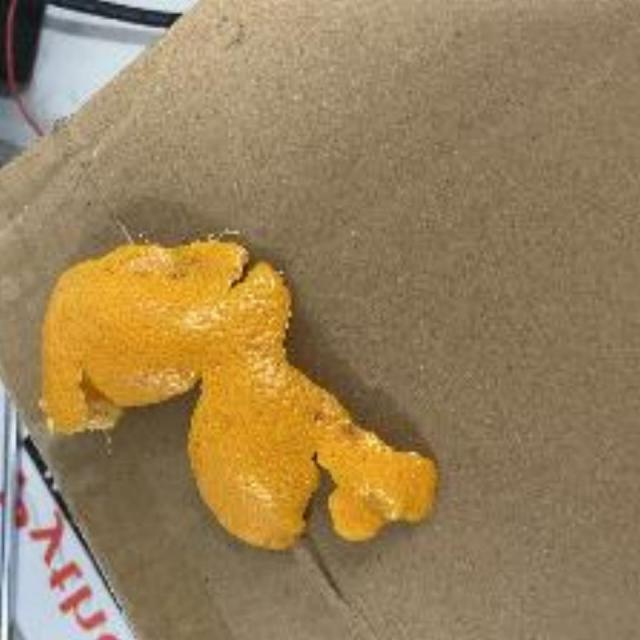orange peel: (44, 235, 448, 553)
